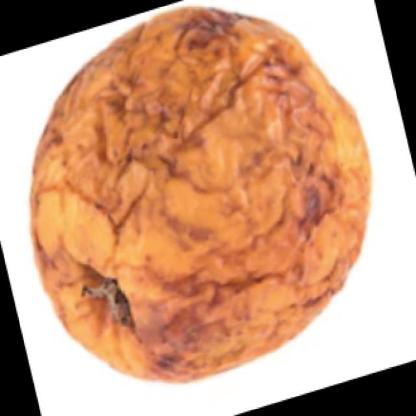defect: (60, 46, 348, 352)
